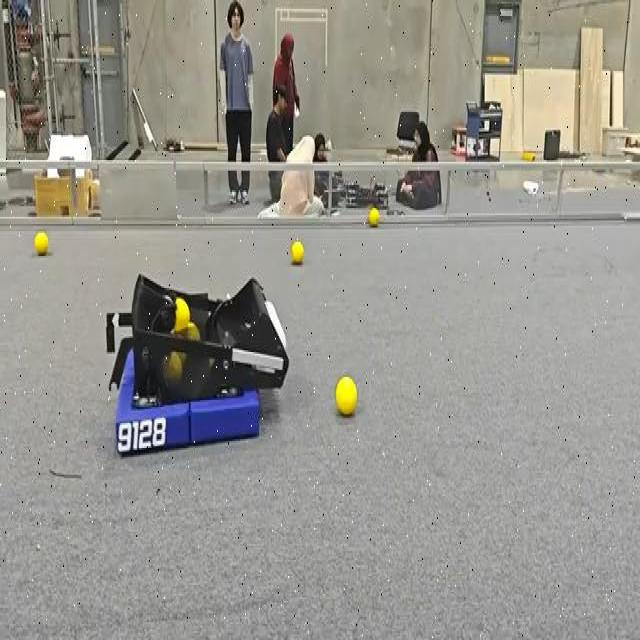Fuel: (335, 376, 357, 416), (335, 377, 356, 414), (163, 352, 183, 385), (172, 298, 190, 332), (173, 297, 189, 331), (180, 322, 201, 342), (34, 232, 48, 256), (34, 231, 48, 254), (290, 241, 304, 264), (291, 242, 303, 263), (368, 207, 380, 227), (368, 206, 379, 226), (291, 240, 298, 252)
